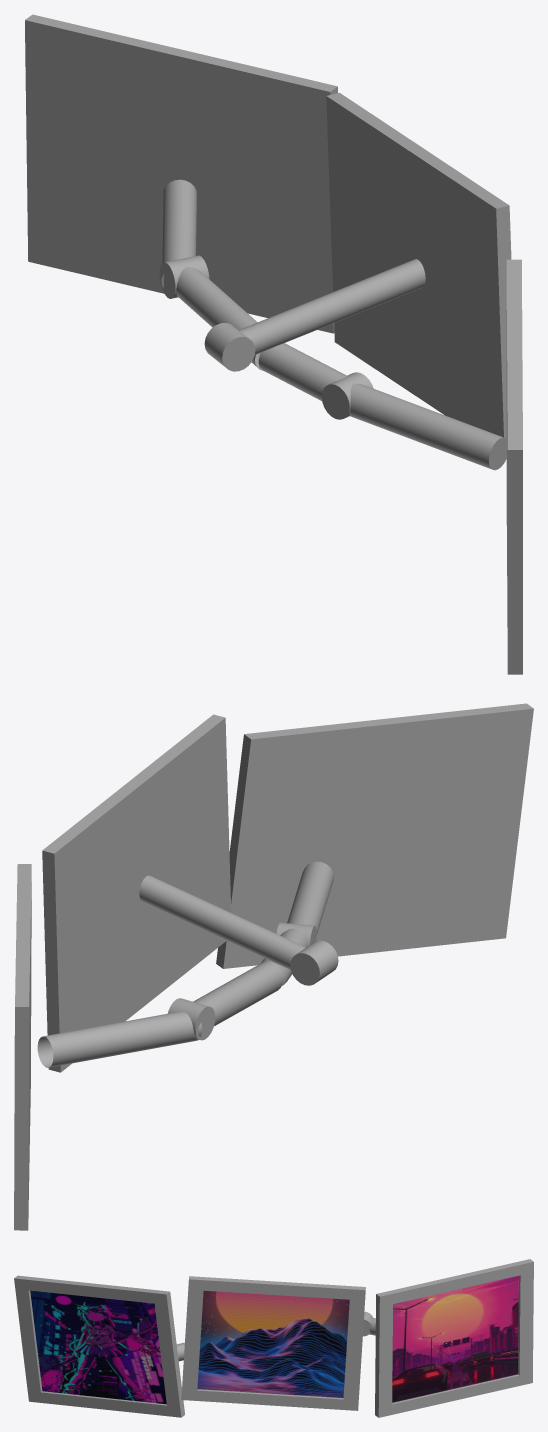
The model's file is House 9.fbx.
3 renders of one model, top to bottom at view 1: azimuth 30°, elevation 25°; view 2: azimuth 150°, elevation 25°; view 3: azimuth 270°, elevation 25°, orthographic. The views are drawn at different scales.
Visible parts, largest first — view 1: Screen_3, Screen_2, Metal_Screenholder, Screen_1; view 2: Screen_1, Screen_2, Metal_Screenholder, Screen_3; view 3: Screen_2, Screen_3, Screen_1, Metal_Screenholder.
Part boxes in pixels (<box>): Screen_3: <box>25,14,337,333</box>; Screen_2: <box>326,93,511,438</box>; Metal_Screenholder: <box>159,179,506,470</box>; Screen_1: <box>506,259,522,674</box>; Screen_1: <box>216,703,533,968</box>; Screen_2: <box>42,714,231,1072</box>; Metal_Screenholder: <box>37,861,338,1067</box>; Screen_3: <box>14,864,31,1230</box>; Screen_2: <box>181,1276,365,1410</box>; Screen_3: <box>375,1259,533,1417</box>; Screen_1: <box>14,1275,184,1417</box>; Metal_Screenholder: <box>176,1311,375,1361</box>.
Size of the model in its own units: 0.7663 by 0.996 by 2.97.
